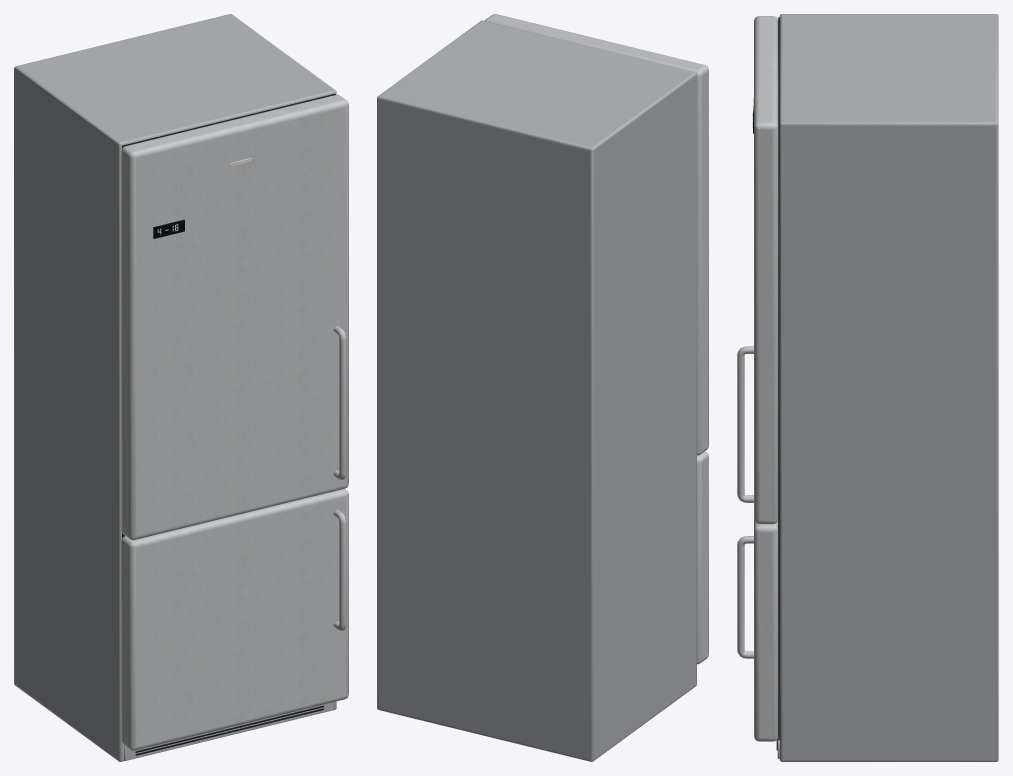
Rendered from frigorifico_combi_inox_70x190.glb.
3 renders of one model, left to right at view 1: azimuth 30°, elevation 25°; view 2: azimuth 150°, elevation 25°; view 3: azimuth 270°, elevation 25°, orthographic. The views are drawn at different scales.
Parts seen in each view (by area): view 1: frigorifico_combi_inox_70x190; view 2: frigorifico_combi_inox_70x190; view 3: frigorifico_combi_inox_70x190.
Boxes of the visible parts, <box> form: frigorifico_combi_inox_70x190: <box>14,14,348,761</box>; frigorifico_combi_inox_70x190: <box>377,14,708,761</box>; frigorifico_combi_inox_70x190: <box>737,14,998,761</box>.
Size of the model in its own units: 0.7001 by 1.9 by 0.7001.
Materials: 6 (1 with a texture image).
